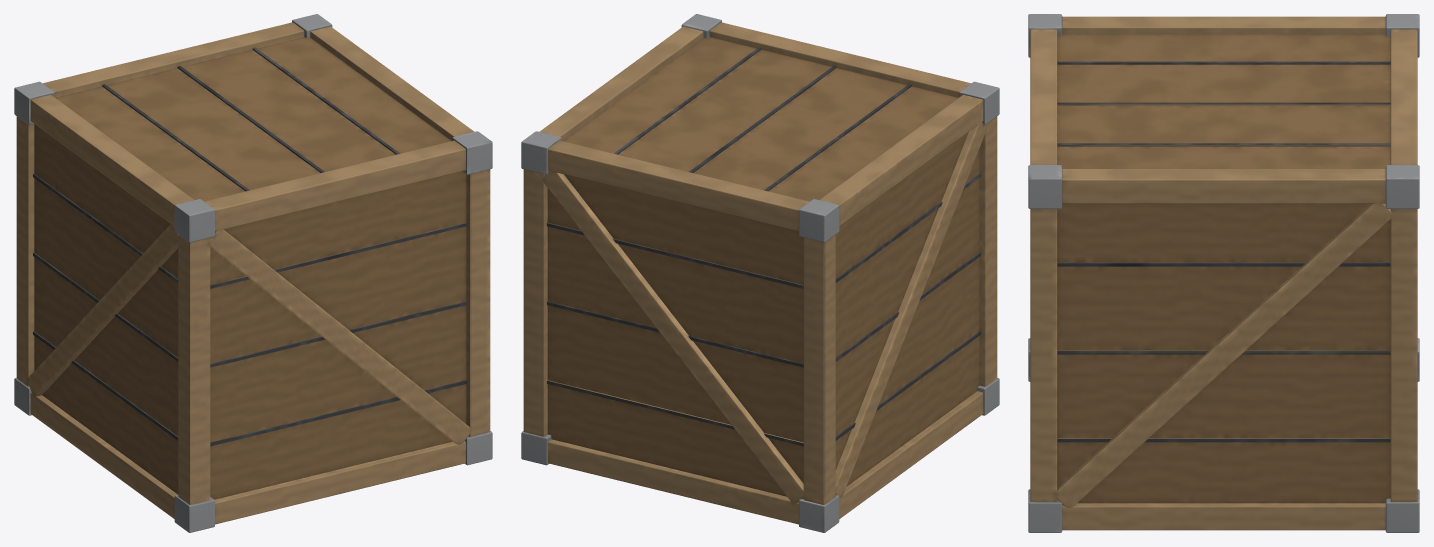
Rendered from smallcrate.fbx.
The picture shows the model from 3 angles, left to right: view 1: azimuth 30°, elevation 25°; view 2: azimuth 150°, elevation 25°; view 3: azimuth 270°, elevation 25°; orthographic projection. The views are drawn at different scales.
Parts seen in each view (by area): view 1: crate; view 2: crate; view 3: crate.
Boxes of the visible parts, x1,y1,x2,y2 form: crate: [14, 14, 492, 532]; crate: [521, 14, 999, 532]; crate: [1028, 14, 1419, 532].
Bounding box in the file's own units: 0.606 × 0.606 × 0.606.
